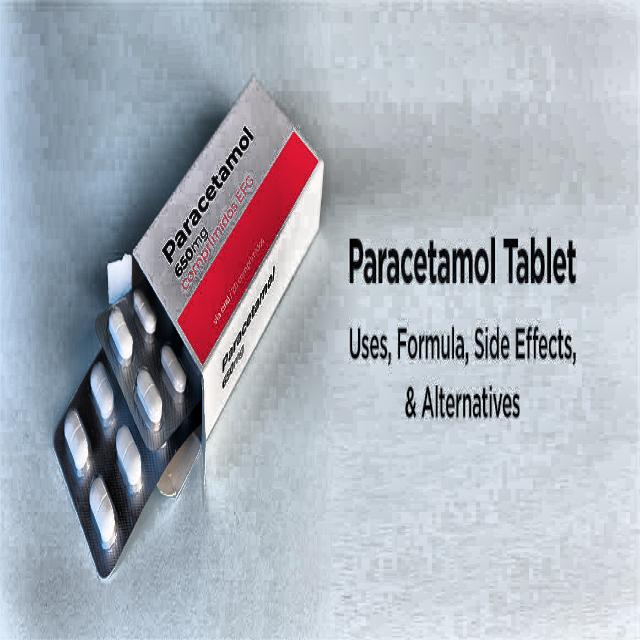Paracetamol: (144, 80, 293, 315), (332, 218, 578, 314)
